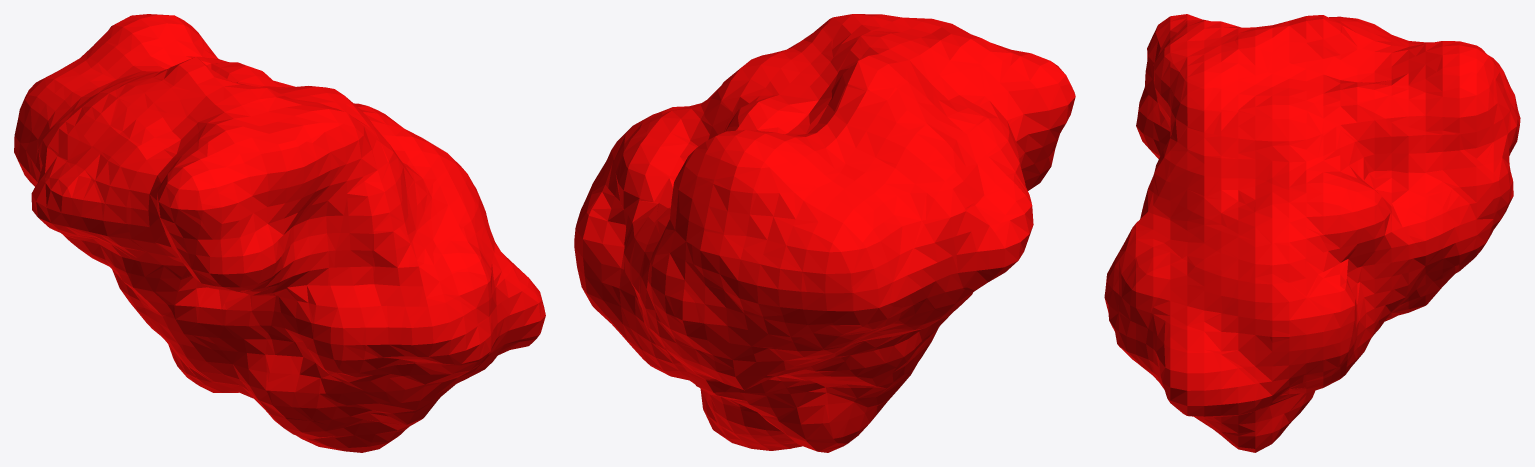
File: lhgO_coarse.dae
The picture shows the model from 3 angles, left to right: view 1: azimuth 30°, elevation 25°; view 2: azimuth 150°, elevation 25°; view 3: azimuth 270°, elevation 25°; orthographic projection. The views are drawn at different scales.
Visible parts, largest first — view 1: lhgO; view 2: lhgO; view 3: lhgO.
Boxes of the visible parts, x1=… form: lhgO: x1=14, y1=14, x2=545, y2=452; lhgO: x1=574, y1=14, x2=1075, y2=452; lhgO: x1=1104, y1=14, x2=1520, y2=452.
Bounding box in the file's own units: 66.41 × 58.81 × 60.2.
